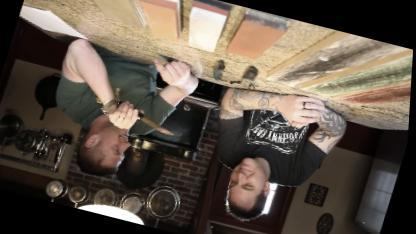knife: (113, 100, 185, 148)
